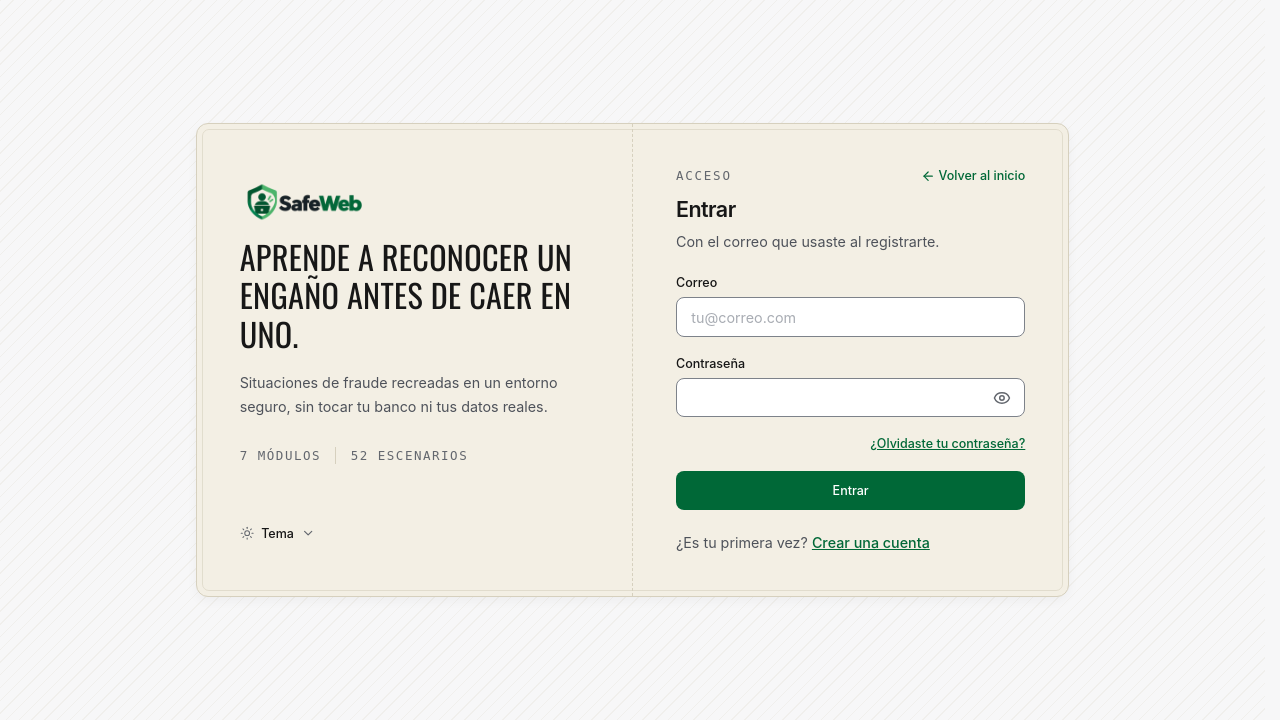
Test: Login › no envía el login cuando falta la contraseña
Type "ana@correo.com" into the field labelled "Correo" at (851, 317), box 676,297 -> 1025,337
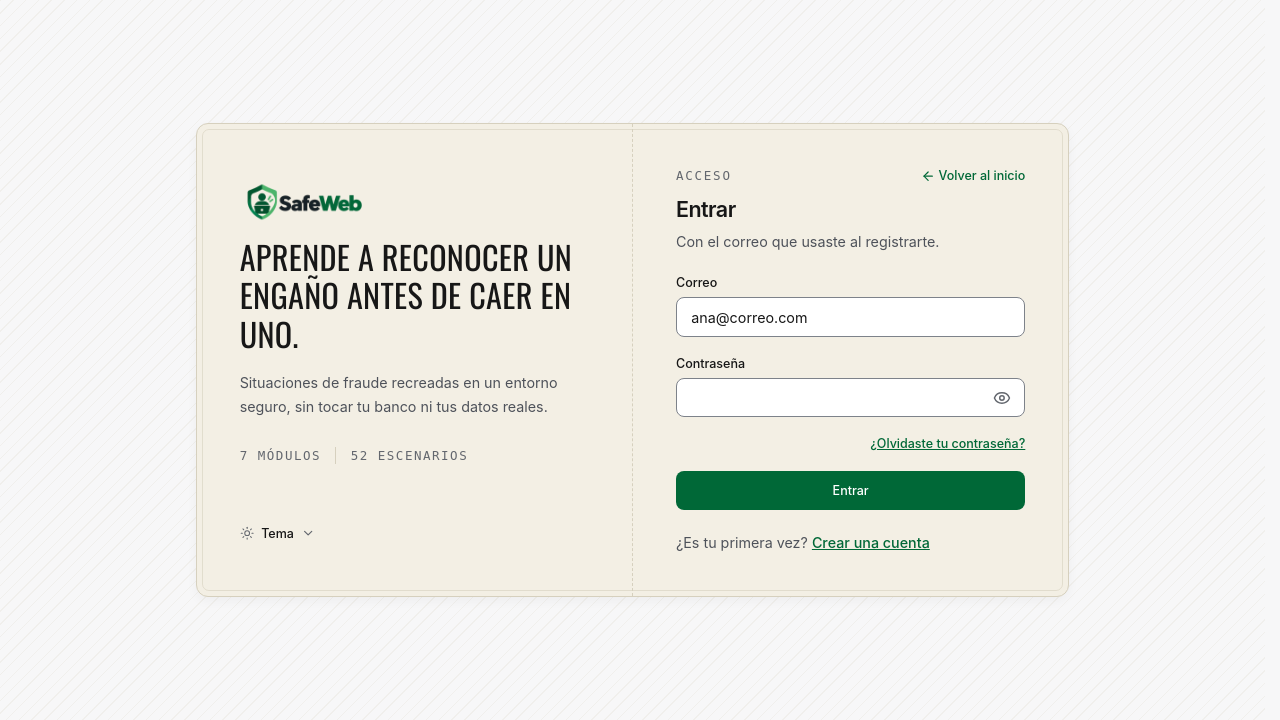
Click the button "Entrar" at (851, 491), box 676,471 -> 1025,510
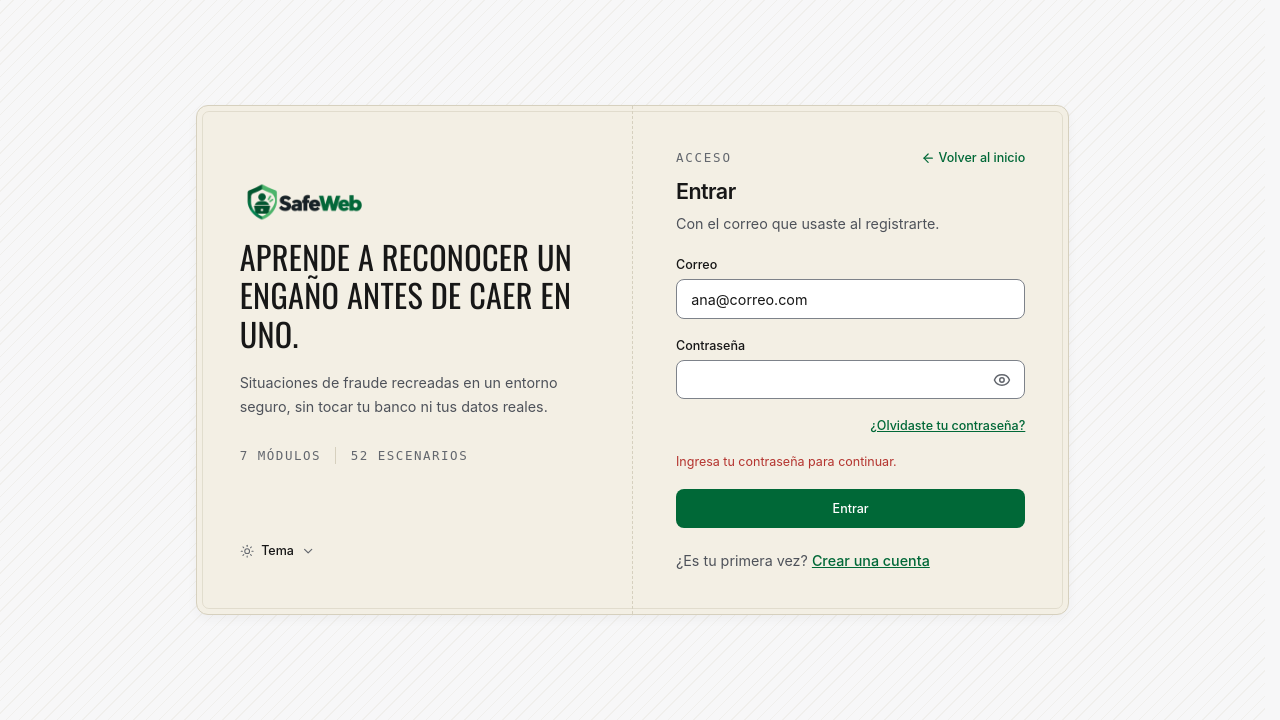
Result: the text "Ingresa tu contraseña para continuar." is shown at 676,454 -> 897,469
